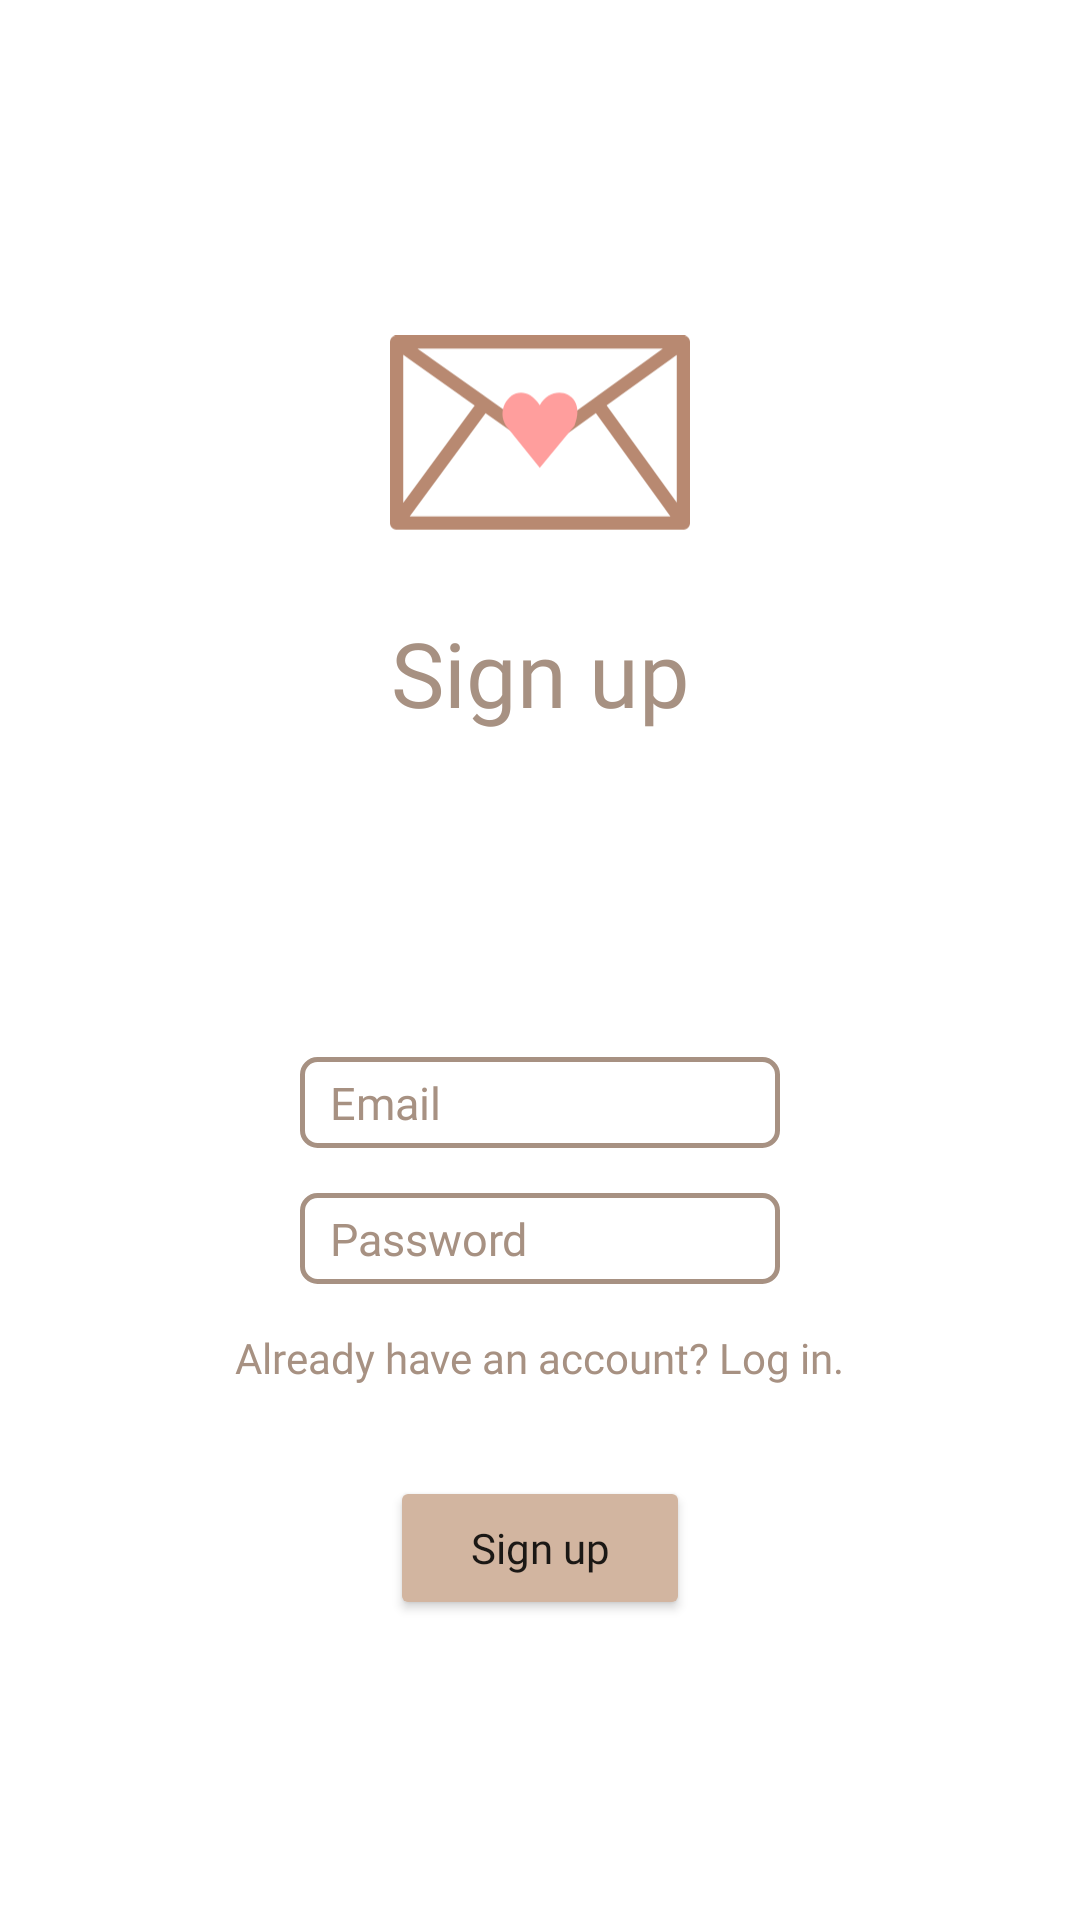

Screen size 1080px x 1920px. Icon name, then its box in pixels as (x1, y1, x2, y2):
love cornell letter: (390, 335, 690, 530)
